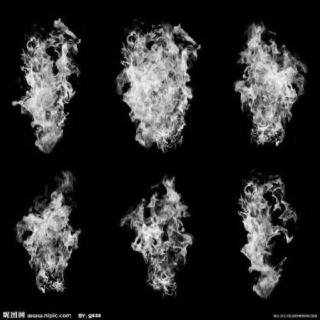Fire: (115, 19, 201, 157)
